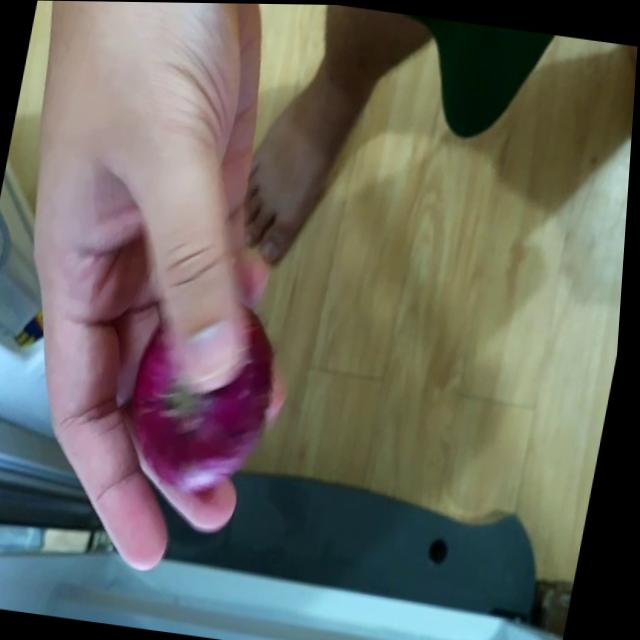onion: (120, 300, 292, 500)
